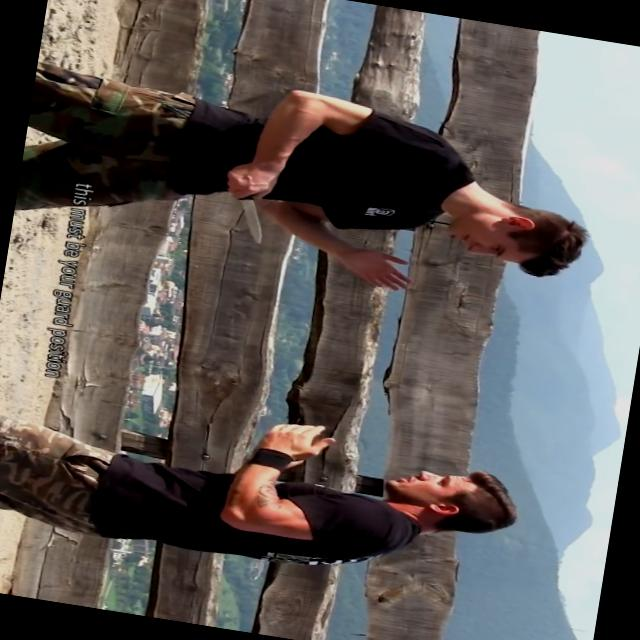knife: (212, 160, 282, 250)
